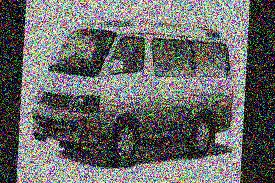van: (31, 14, 239, 156)
